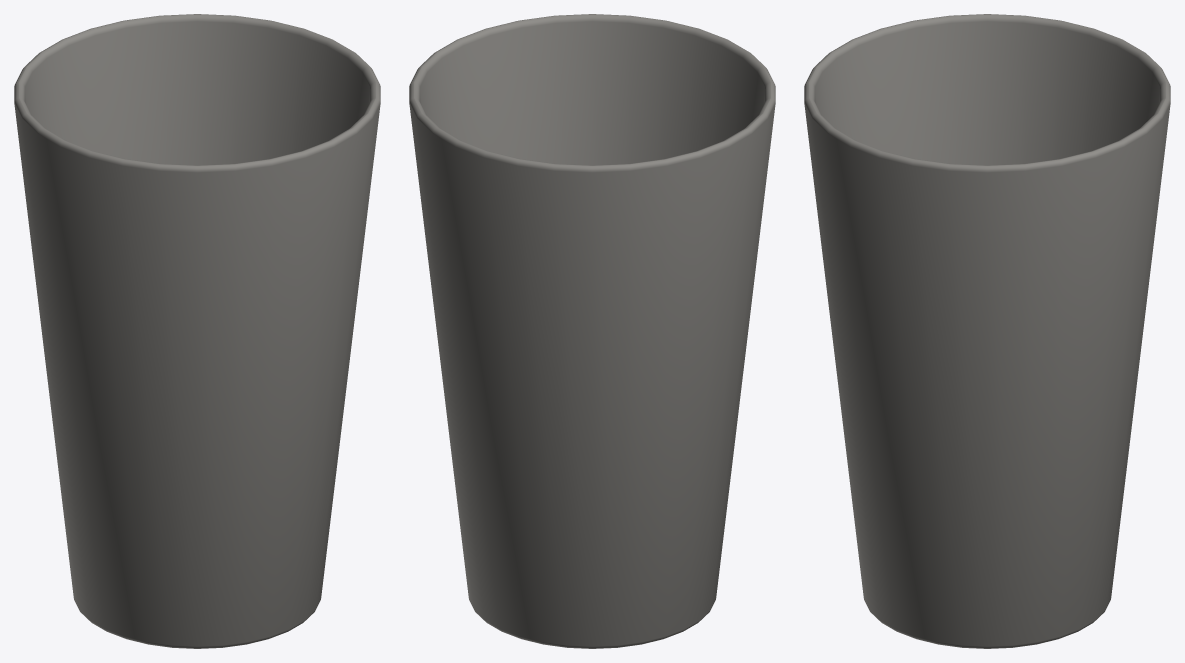
The model's file is Cup.FBX.
3 views of the same model, side by side, from view 1: azimuth 30°, elevation 25°; view 2: azimuth 150°, elevation 25°; view 3: azimuth 270°, elevation 25° (orthographic).
Visible parts, largest first — view 1: Cylinder002; view 2: Cylinder002; view 3: Cylinder002.
Boxes of the visible parts, x1,y1,x2,y2 form: Cylinder002: (14,14,380,648); Cylinder002: (409,14,775,648); Cylinder002: (804,14,1170,648).
Bounding box in the file's own units: 34.58 × 52.66 × 34.39.
Materials: 1 (1 with a texture image).
